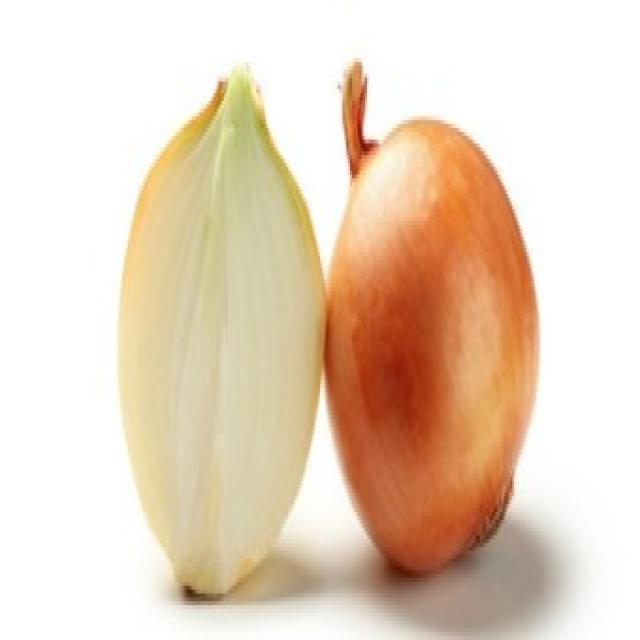Onion: (323, 57, 544, 572), (118, 66, 328, 598)
